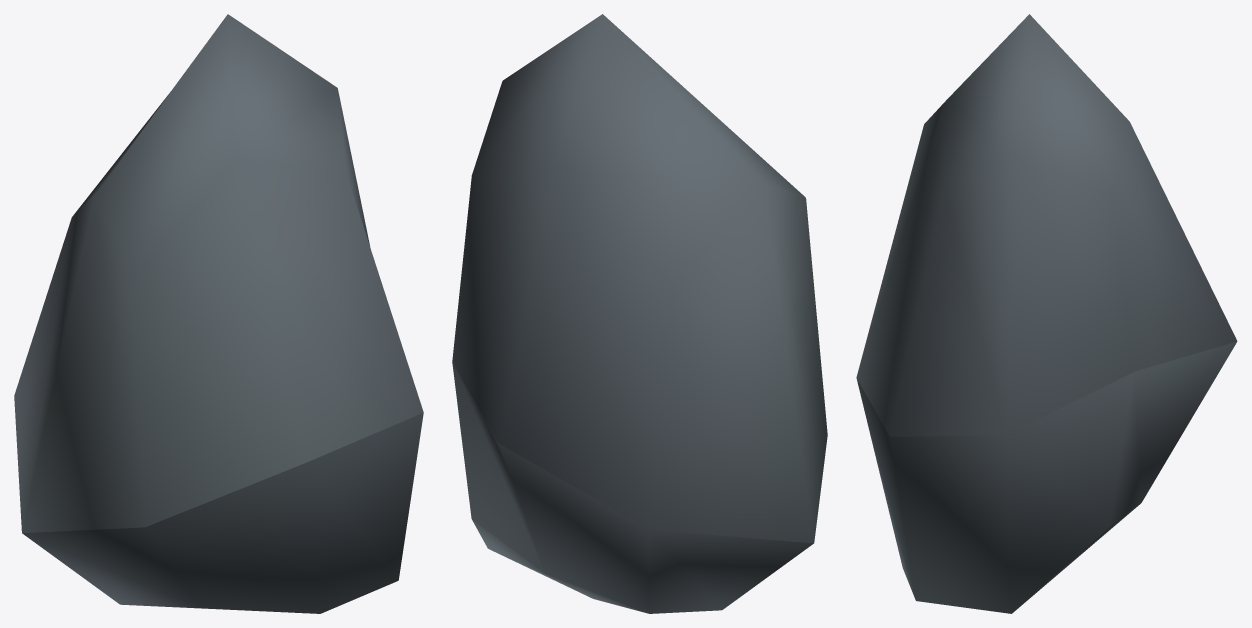
Rendered from rock2.fbx.
The picture shows the model from 3 angles, left to right: view 1: azimuth 30°, elevation 25°; view 2: azimuth 150°, elevation 25°; view 3: azimuth 270°, elevation 25°; orthographic projection. The views are drawn at different scales.
Parts seen in each view (by area): view 1: Cube.001; view 2: Cube.001; view 3: Cube.001.
Part boxes in pixels (x1,y1,x2,y2): Cube.001: (14,14,423,613); Cube.001: (452,14,827,613); Cube.001: (856,14,1237,613).
Size of the model in its own units: 416 by 649 by 397.
1 material, 1 textured.
